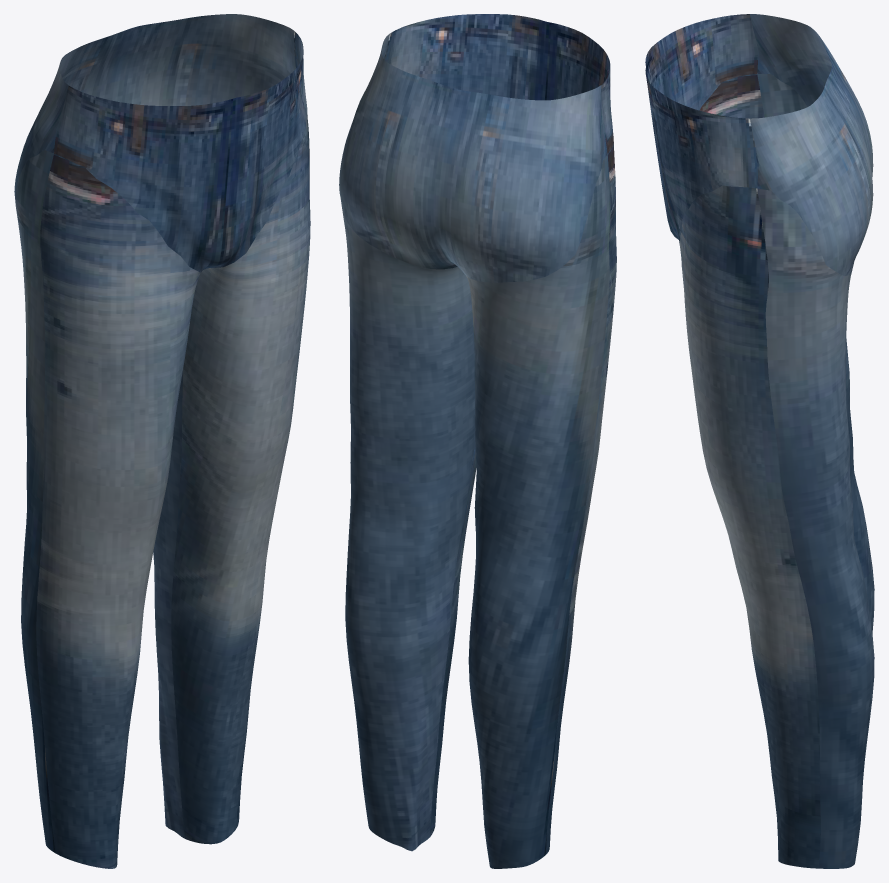
File: Zubon01.fbx
3 views of the same model, side by side, from view 1: azimuth 30°, elevation 25°; view 2: azimuth 150°, elevation 25°; view 3: azimuth 270°, elevation 25° (orthographic). The views are drawn at different scales.
Parts seen in each view (by area): view 1: Zubon01; view 2: Zubon01; view 3: Zubon01.
Part boxes in pixels (left/top/right/bottom): Zubon01: left=14, top=14, right=310, bottom=868; Zubon01: left=339, top=14, right=616, bottom=868; Zubon01: left=645, top=14, right=874, bottom=868.
Bounding box in the file's own units: 31.23 × 91.71 × 24.56.
